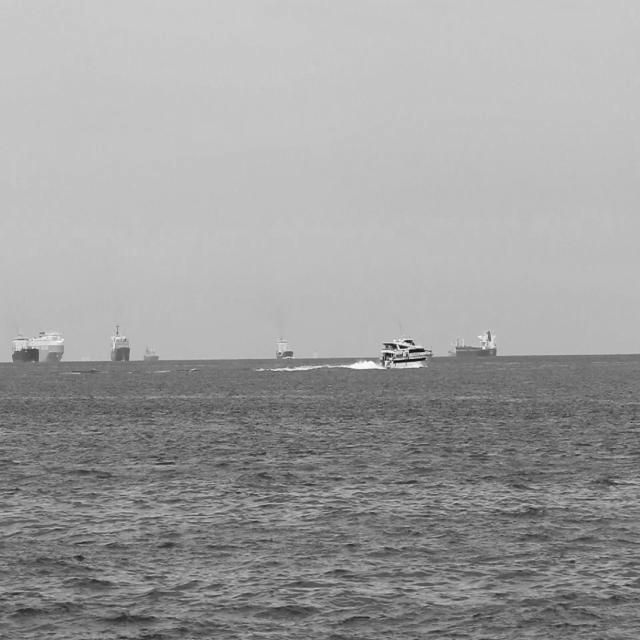ship: (374, 336, 430, 370), (442, 324, 494, 360), (5, 330, 63, 362), (105, 317, 128, 365), (10, 336, 38, 364), (272, 329, 294, 357), (141, 338, 159, 363)
